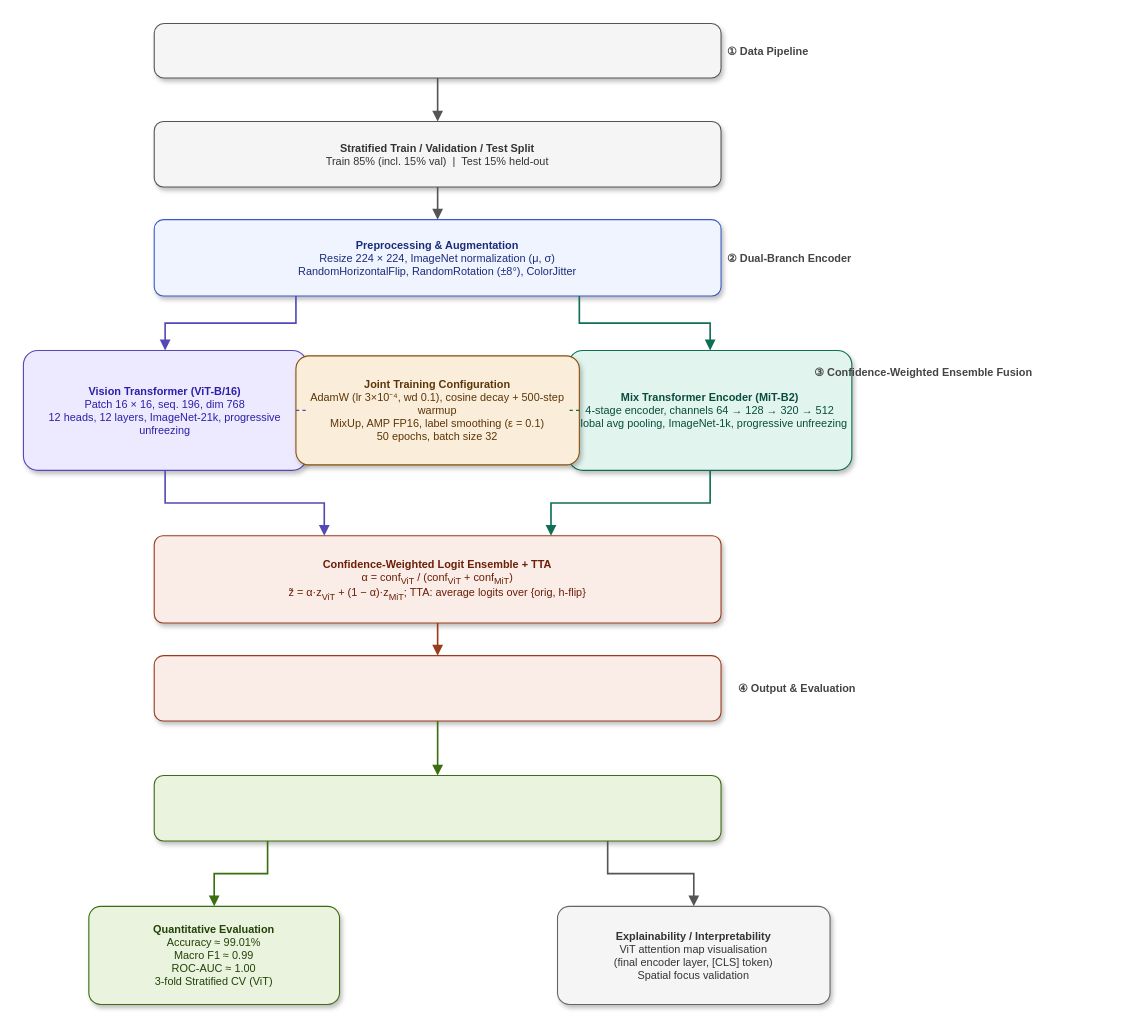
Image size: 1143x1031. Some labels were removed from this diagram. The centre of each missing label's shape, as x and y in pixels:
Brain MRI Dataset (Cheng, 2017) N = 7,200 images | 4 classes: (x=438, y=52)
Predicted Tumour Class Glioma | Meningioma | Pituitary Adenoma | No Tumour: (x=438, y=809)
Softmax Normalisation p̂ = softmax(z̃) → class probabilities: (x=438, y=689)
